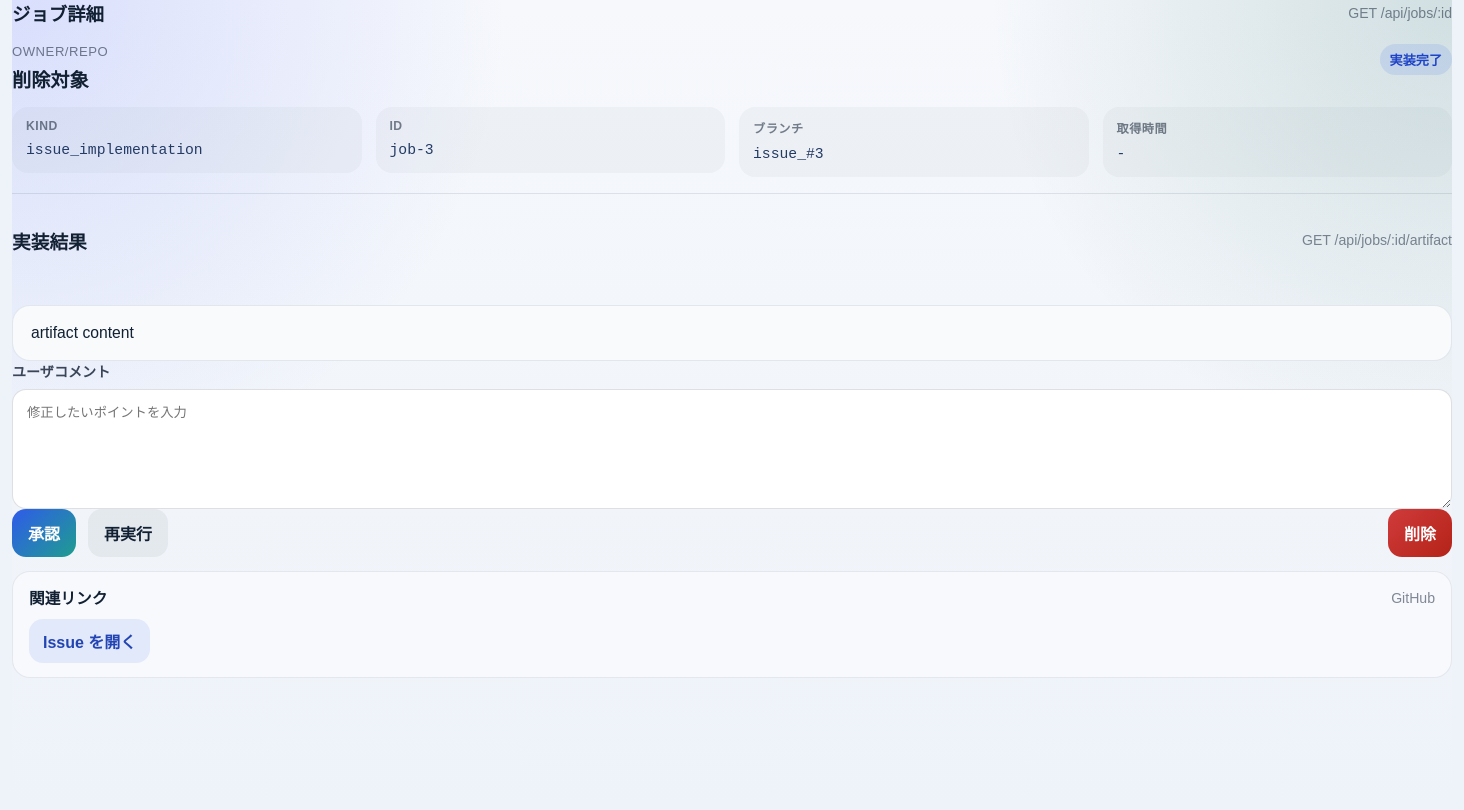
JobDetailPanel › deletes the current job after confirmation
This screenshot has width=1464, height=810.
Click the button with class "button--danger" at (1420, 533), box [1388, 509, 1452, 557]
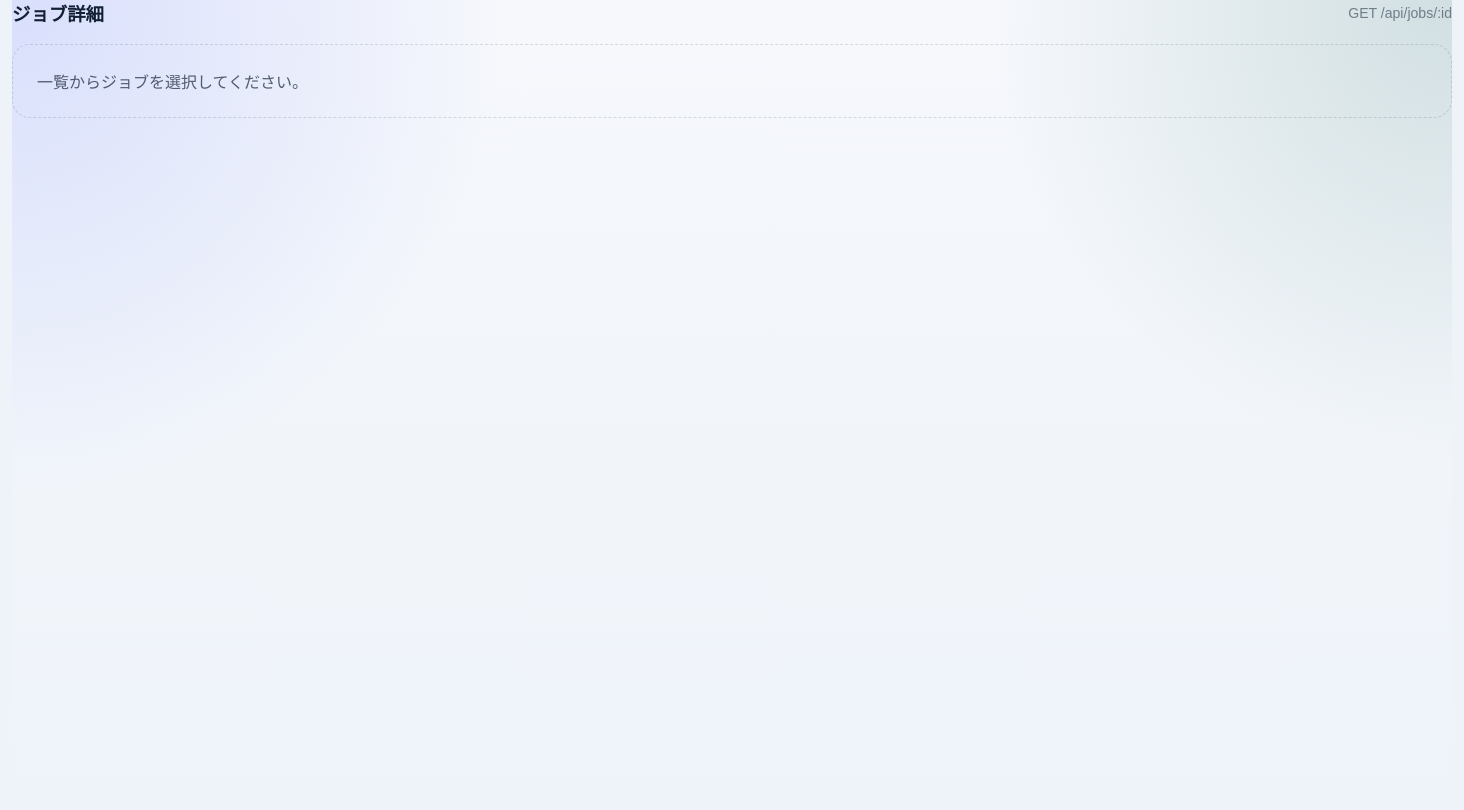
Result: the text "一覧からジョブを選択してください。" is shown at [12, 44, 1452, 118]
